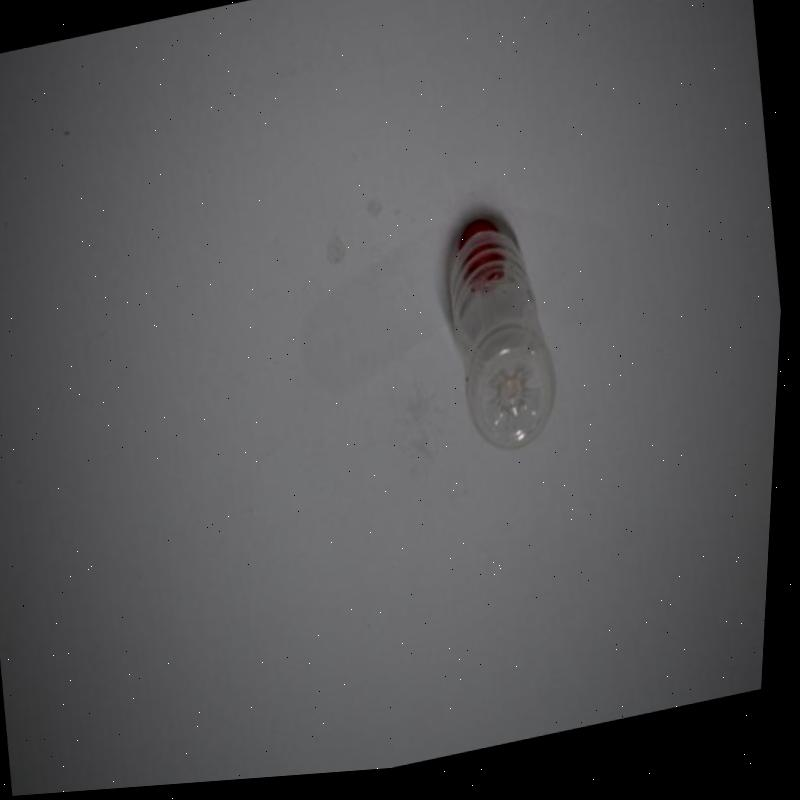botella: (437, 212, 575, 472)
